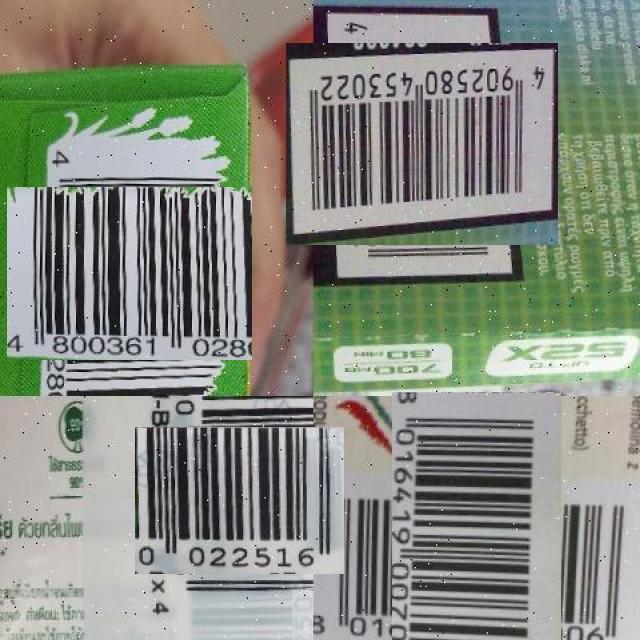Barcode: (303, 26, 541, 263), (352, 431, 600, 640), (25, 169, 235, 378), (150, 411, 329, 590)
